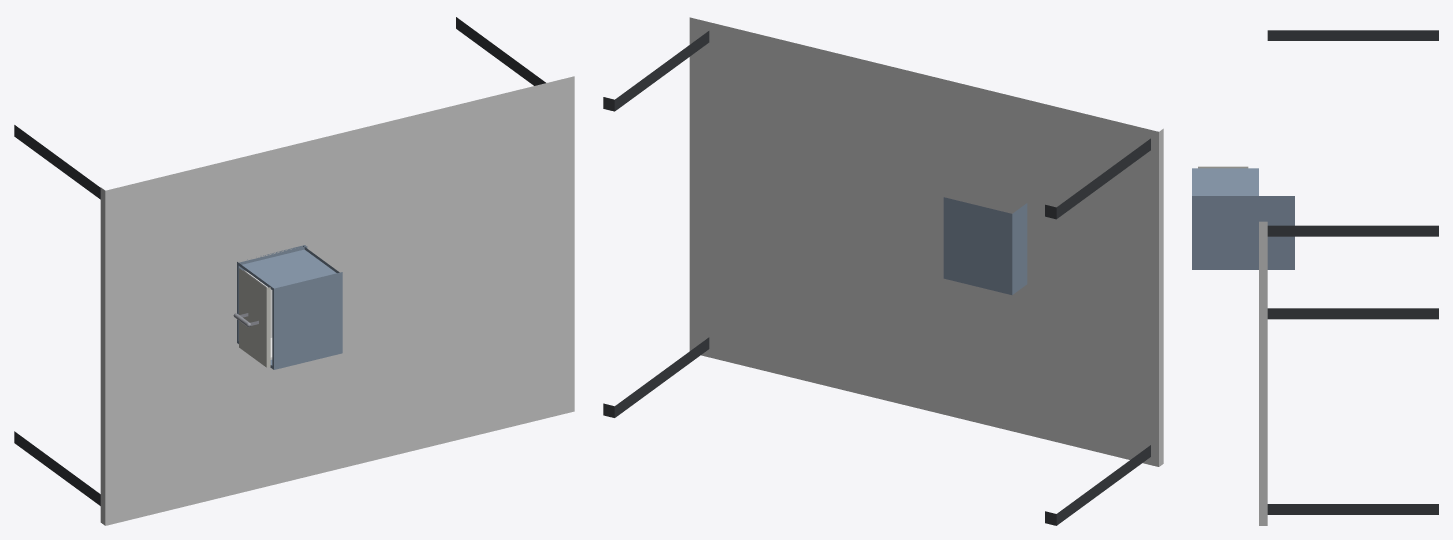
Rendered from t2_385bb93abc.glb.
3 renders of one model, left to right at view 1: azimuth 30°, elevation 25°; view 2: azimuth 150°, elevation 25°; view 3: azimuth 270°, elevation 25°, orthographic. The views are drawn at different scales.
Visible parts, largest first — view 1: s0, s1, s2; view 2: s0, s1; view 3: s0, s1.
Boxes of the visible parts, x1=… form: s0: x1=14, y1=17, x2=574, y2=525; s1: x1=237, y1=245, x2=342, y2=369; s2: x1=233, y1=268, x2=272, y2=367; s0: x1=603, y1=17, x2=1163, y2=525; s1: x1=943, y1=197, x2=1027, y2=294; s0: x1=1259, y1=30, x2=1438, y2=525; s1: x1=1192, y1=168, x2=1294, y2=269.
Bounding box in the file's own units: 2.05 × 1.4 × 1.03.
